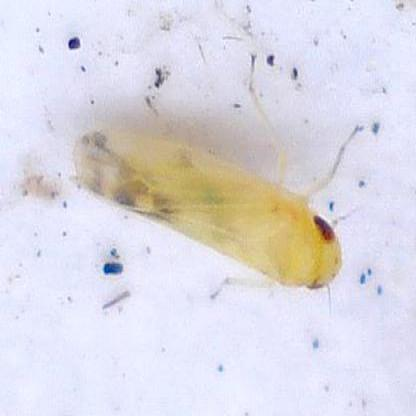green-leafhopper: (71, 53, 366, 298)
